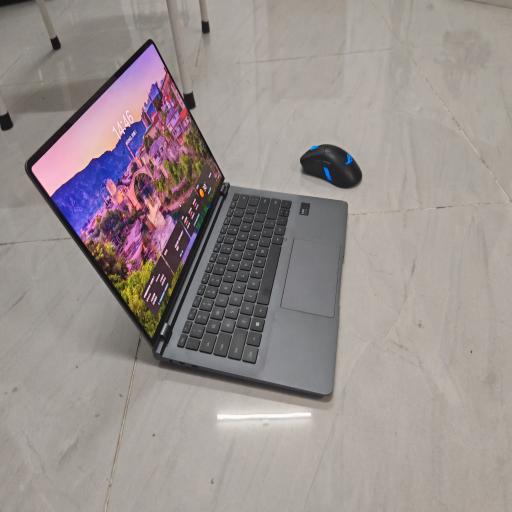laptop: (26, 40, 346, 395)
mouse: (300, 144, 362, 188)
